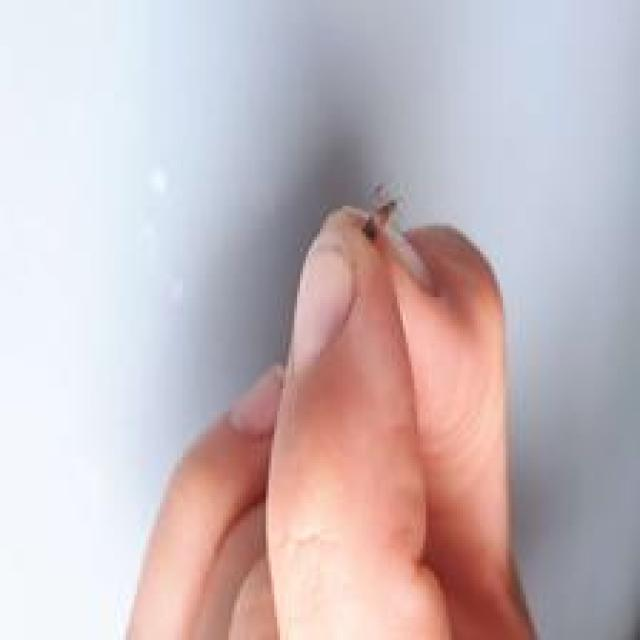Culex: (360, 180, 440, 297)
